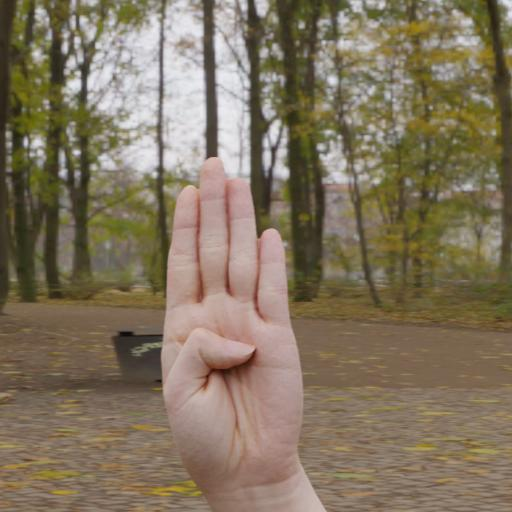B: (151, 150, 316, 498)
